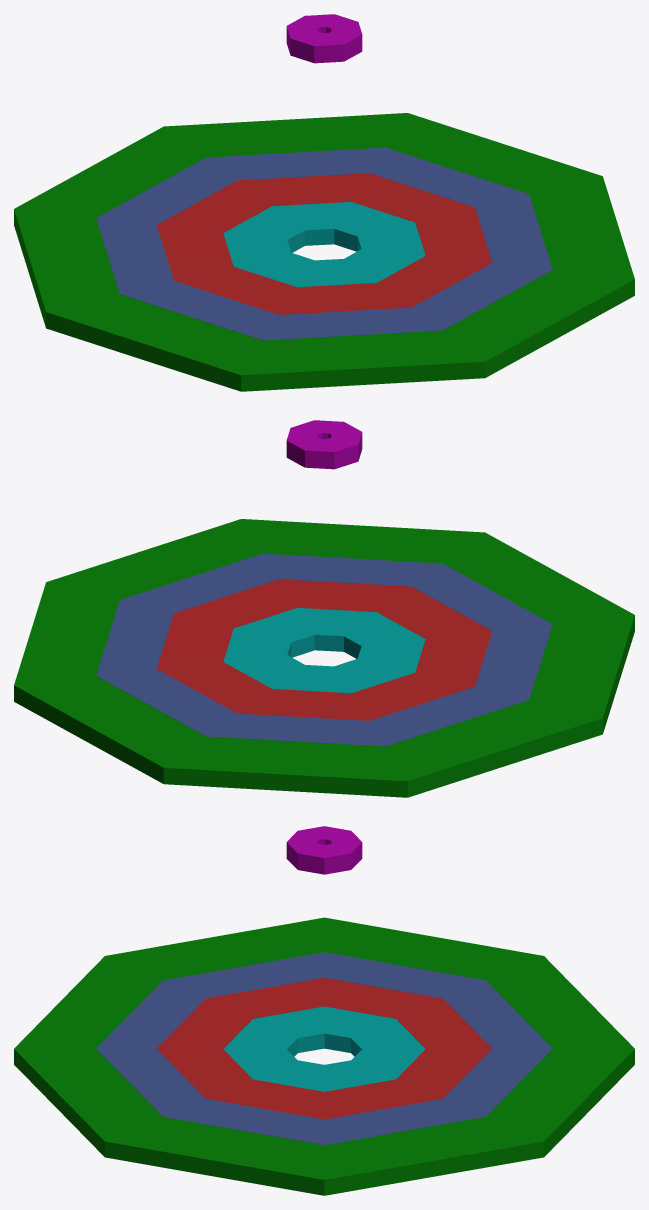
The model's file is Levelmaya4.fbx.
3 views of the same model, one above another, from view 1: azimuth 30°, elevation 25°; view 2: azimuth 150°, elevation 25°; view 3: azimuth 270°, elevation 25° (orthographic). The views are drawn at different scales.
Visible parts, largest first — view 1: pasted__pCylinder3, pasted__pCylinder4, pasted__pCylinder5, pasted__pCylinder6, pasted__pCylinder7; view 2: pasted__pCylinder3, pasted__pCylinder4, pasted__pCylinder5, pasted__pCylinder6, pasted__pCylinder7; view 3: pasted__pCylinder3, pasted__pCylinder4, pasted__pCylinder5, pasted__pCylinder6, pasted__pCylinder7.
Boxes of the visible parts, left/top/right/bottom form: pasted__pCylinder3: left=14, top=113, right=634, bottom=391; pasted__pCylinder4: left=96, top=147, right=552, bottom=340; pasted__pCylinder5: left=156, top=173, right=491, bottom=314; pasted__pCylinder6: left=223, top=202, right=425, bottom=287; pasted__pCylinder7: left=286, top=14, right=362, bottom=63; pasted__pCylinder3: left=14, top=519, right=634, bottom=797; pasted__pCylinder4: left=96, top=553, right=552, bottom=746; pasted__pCylinder5: left=157, top=579, right=492, bottom=720; pasted__pCylinder6: left=223, top=608, right=425, bottom=693; pasted__pCylinder7: left=286, top=420, right=362, bottom=469; pasted__pCylinder3: left=14, top=917, right=634, bottom=1195; pasted__pCylinder4: left=96, top=952, right=552, bottom=1145; pasted__pCylinder5: left=157, top=978, right=491, bottom=1119; pasted__pCylinder6: left=223, top=1006, right=425, bottom=1091; pasted__pCylinder7: left=286, top=826, right=362, bottom=874.
Size of the model in its own units: 11419 by 4515 by 11419.
